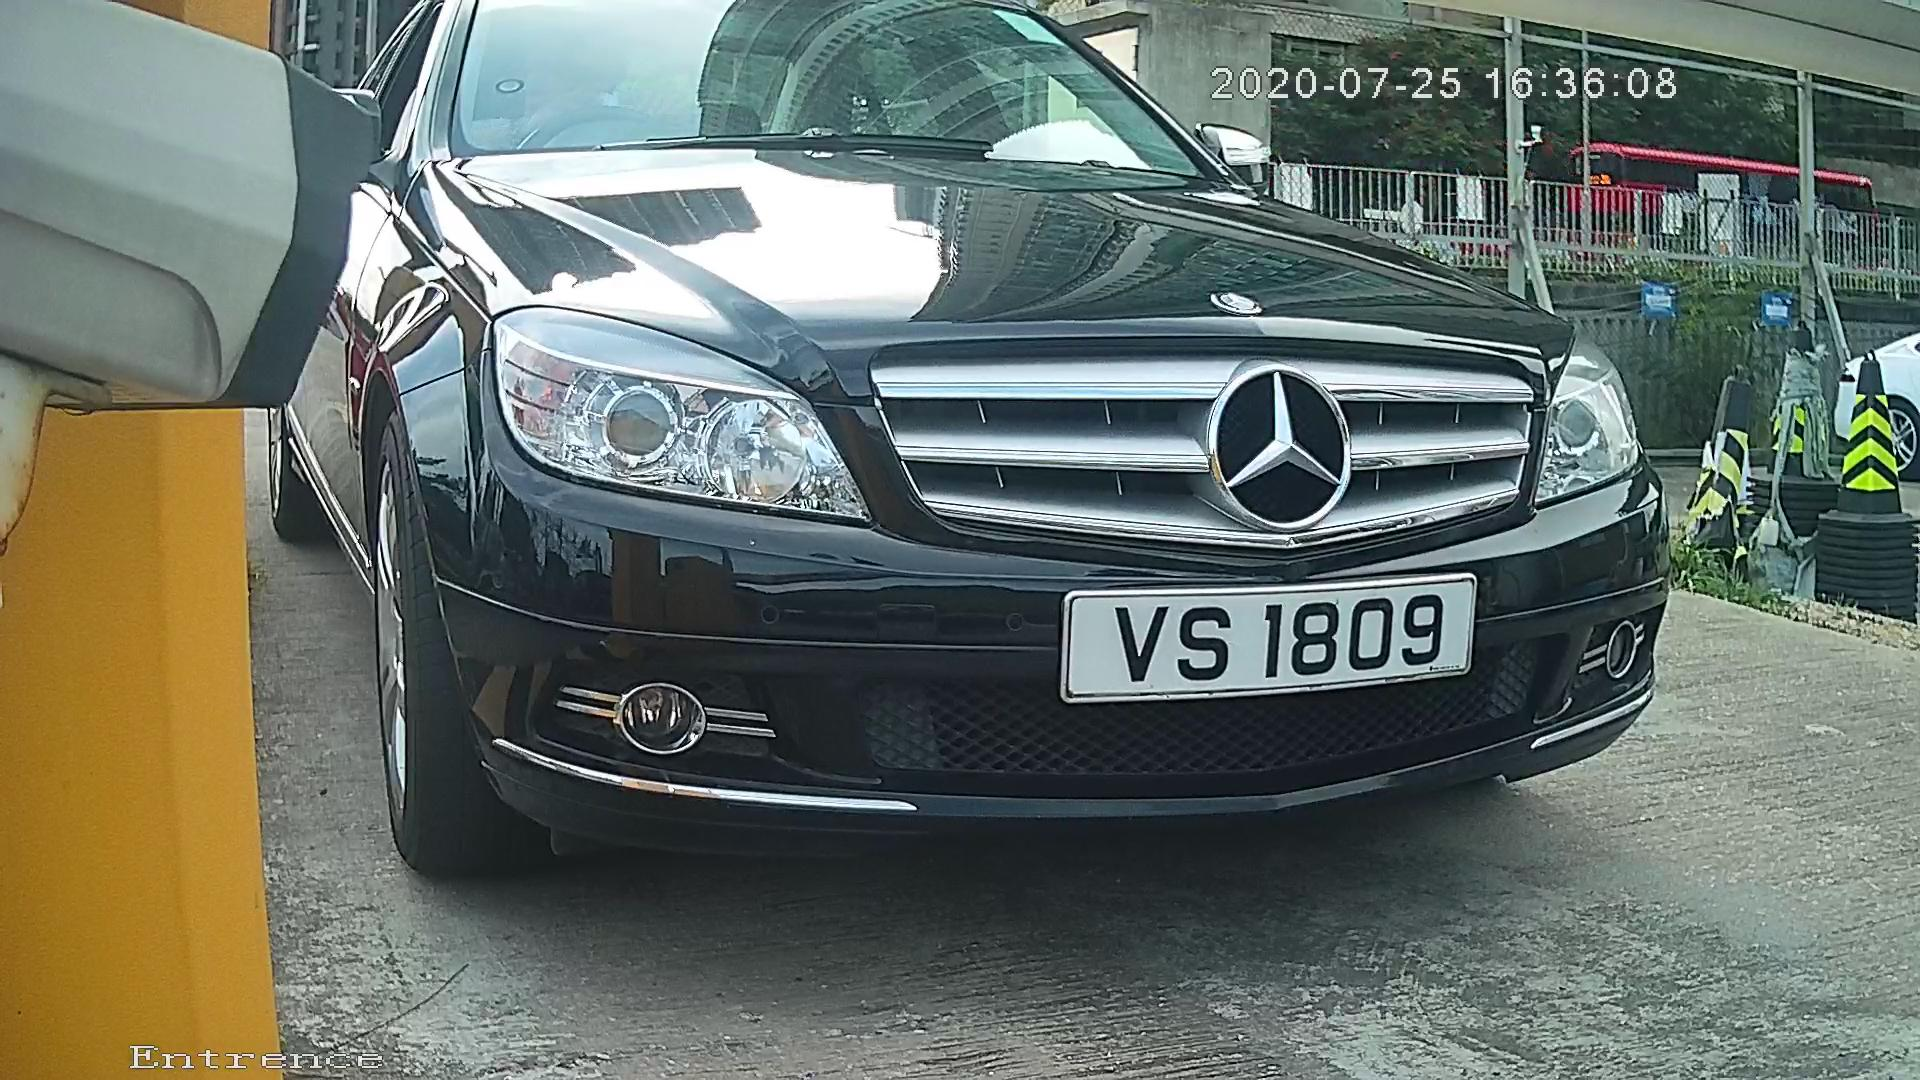Car: (155, 5, 1809, 931)
License Plate: (1038, 560, 1483, 719)
